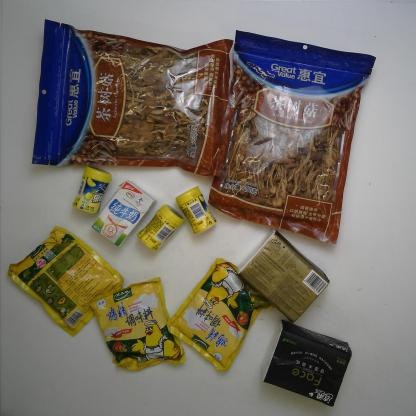Dried Food: (201, 23, 377, 247), (28, 15, 235, 183)
Gum: (135, 202, 186, 254), (70, 164, 112, 217), (175, 188, 217, 237)
Milk: (94, 181, 152, 250)
Seasoner: (5, 225, 125, 338), (164, 256, 276, 374), (89, 277, 181, 376)
Tissue: (259, 318, 355, 408), (241, 230, 329, 322)
